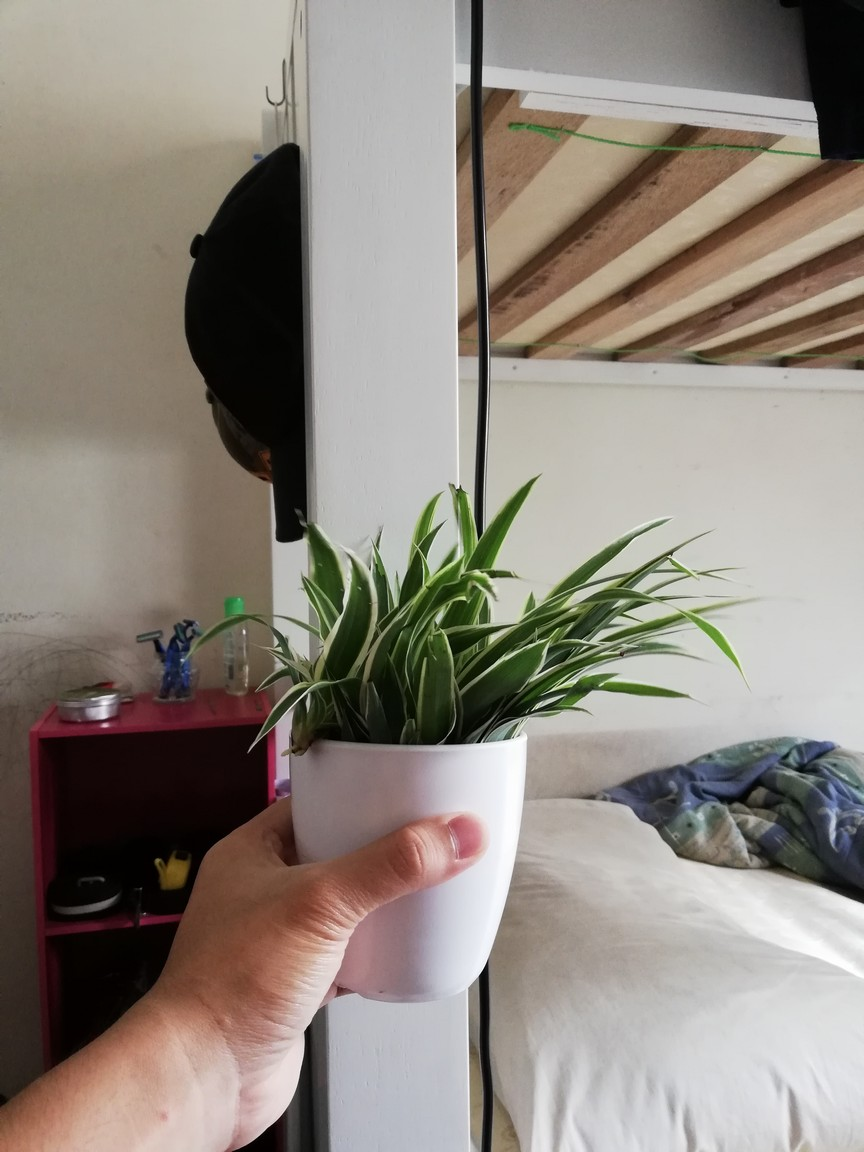daun: (483, 468, 548, 566), (244, 680, 301, 751), (701, 615, 753, 689), (180, 609, 247, 663), (296, 566, 346, 638), (614, 680, 712, 709), (653, 525, 720, 566), (603, 514, 676, 550), (568, 670, 628, 709), (653, 640, 721, 670), (448, 620, 517, 648), (699, 571, 769, 591), (423, 514, 455, 557), (251, 639, 297, 668), (416, 484, 450, 519), (410, 538, 435, 584), (698, 557, 756, 575), (658, 591, 748, 602), (544, 705, 597, 722), (255, 666, 287, 693), (389, 566, 405, 605), (522, 587, 538, 614)
